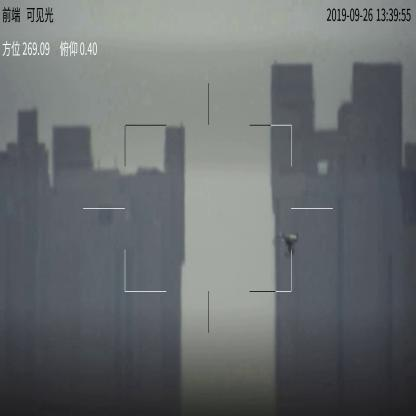uav: (277, 230, 301, 256)
